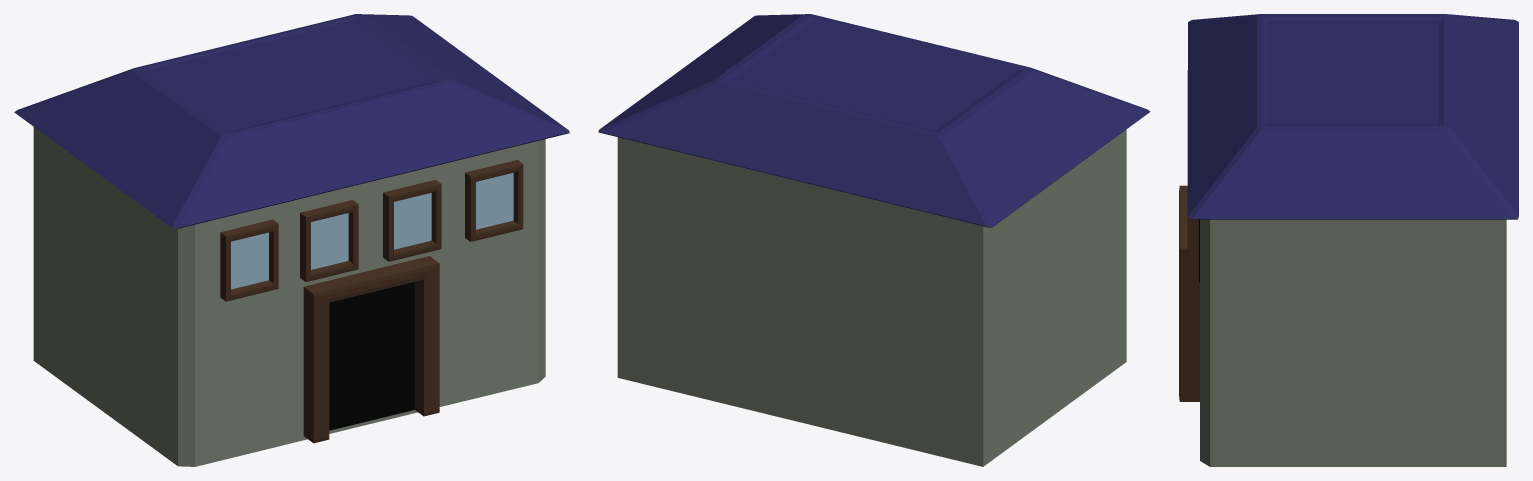
The model's file is House5.fbx.
3 renders of one model, left to right at view 1: azimuth 30°, elevation 25°; view 2: azimuth 150°, elevation 25°; view 3: azimuth 270°, elevation 25°, orthographic. The views are drawn at different scales.
Visible parts, largest first — view 1: Cube.006; view 2: Cube.006; view 3: Cube.006.
Boxes of the visible parts, x1=… form: Cube.006: x1=14, y1=14, x2=569, y2=466; Cube.006: x1=598, y1=14, x2=1150, y2=466; Cube.006: x1=1179, y1=14, x2=1518, y2=466.
Bounding box in the file's own units: 3302 × 2349 × 2382.
Materials: 2 (2 with a texture image).
